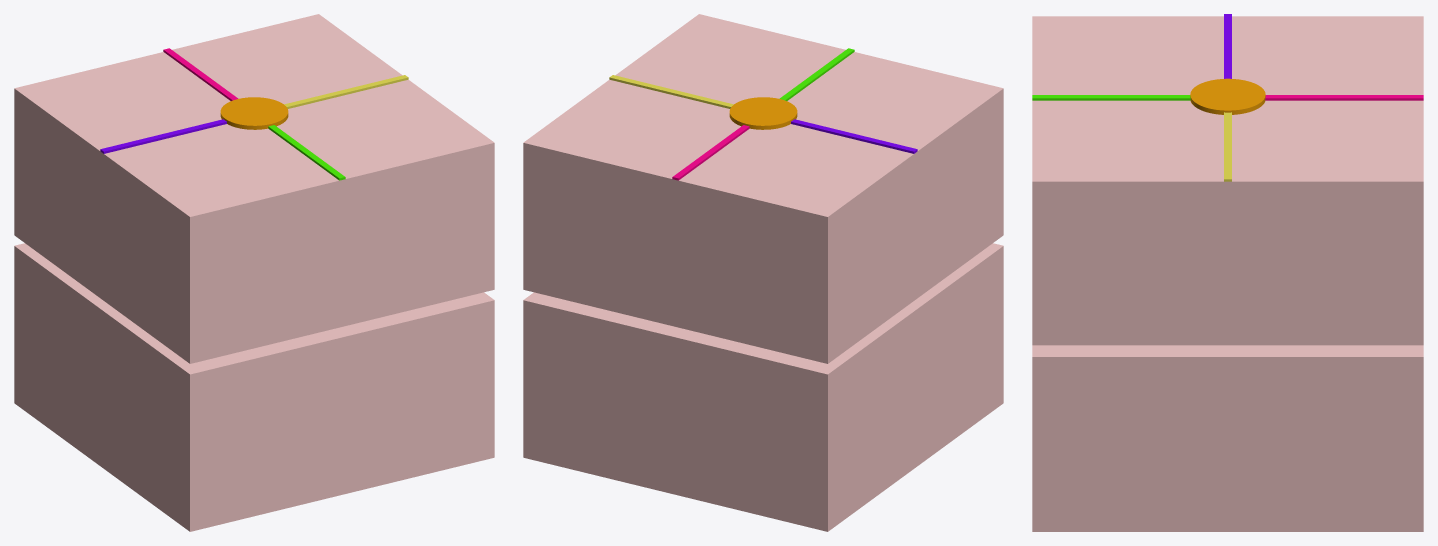
Rendered from Platform.fbx.
3 renders of one model, left to right at view 1: azimuth 30°, elevation 25°; view 2: azimuth 150°, elevation 25°; view 3: azimuth 270°, elevation 25°, orthographic. The views are drawn at different scales.
Parts seen in each view (by area): view 1: Platform_01; view 2: Platform_01; view 3: Platform_01.
Part boxes in pixels (box(x1,y1,x2,y2)): Platform_01: box(14, 14, 494, 531); Platform_01: box(523, 14, 1003, 531); Platform_01: box(1032, 14, 1423, 531).
Bounding box in the file's own units: 0.9998 × 1 × 0.9999.
